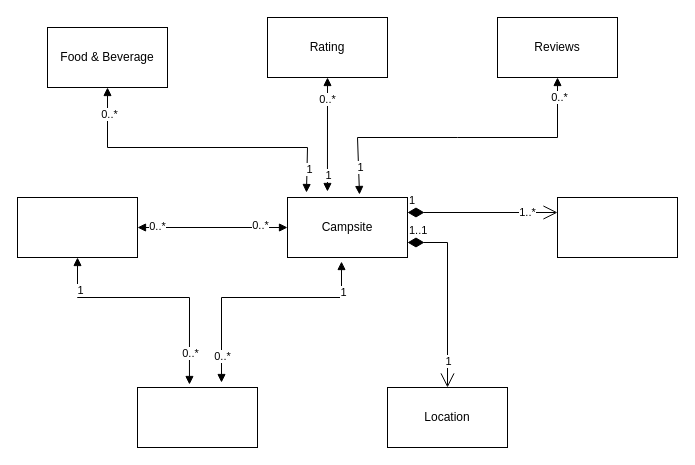
Image size: 695x465. Some labels were removed from this diagram. Each missing label, with the centre of its shape:
"Booking" goes at point 197,417.
"Campgounds" goes at point 617,227.
"User" goes at point 77,227.
